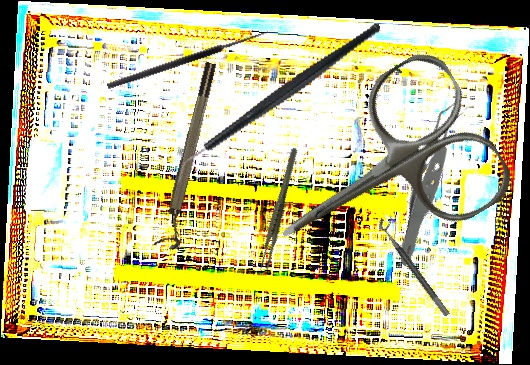Chopper: (150, 22, 406, 185)
Fixation Ring: (153, 61, 228, 251), (376, 213, 458, 318)
Hook Surgical: (103, 19, 270, 92)
Iris Scissors: (238, 43, 521, 306)
Tissue Forceps: (344, 94, 521, 268), (239, 146, 320, 273)
